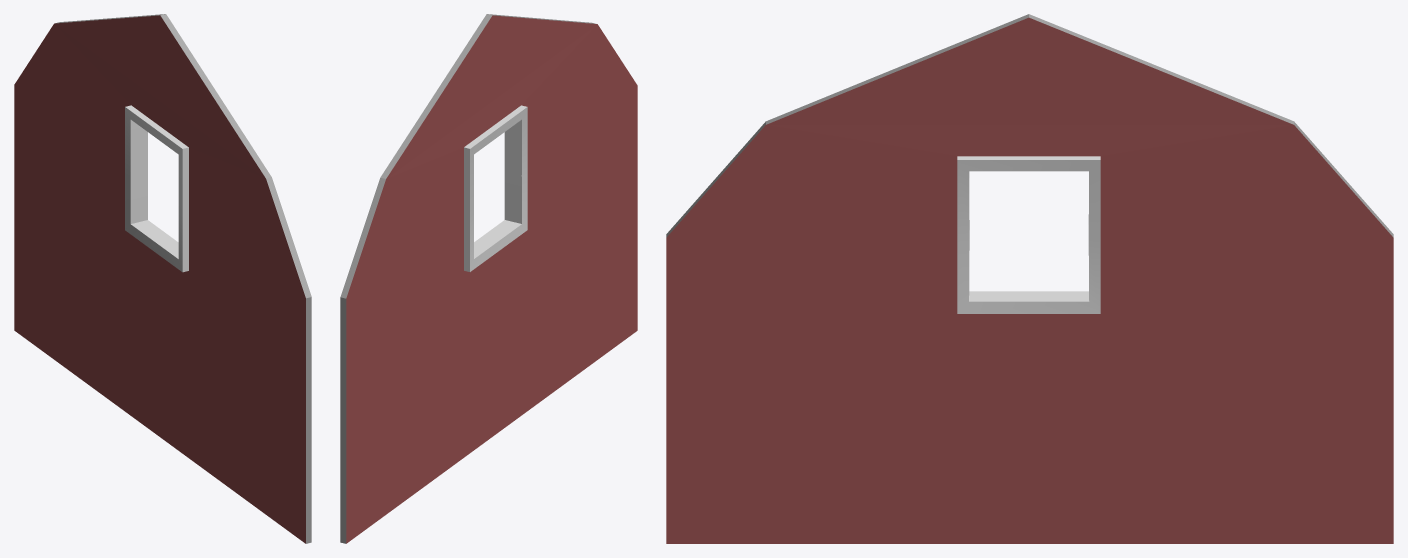
File: barnBACK.fbx
The picture shows the model from 3 angles, left to right: view 1: azimuth 30°, elevation 25°; view 2: azimuth 150°, elevation 25°; view 3: azimuth 270°, elevation 25°; orthographic projection. The views are drawn at different scales.
Parts seen in each view (by area): view 1: pCube103; view 2: pCube103; view 3: pCube103.
Part boxes in pixels (bbox=[...]): pCube103: bbox=[14, 14, 311, 543]; pCube103: bbox=[340, 14, 637, 543]; pCube103: bbox=[666, 14, 1393, 543].
Size of the model in its own units: 1.62 by 34.43 by 43.12.
